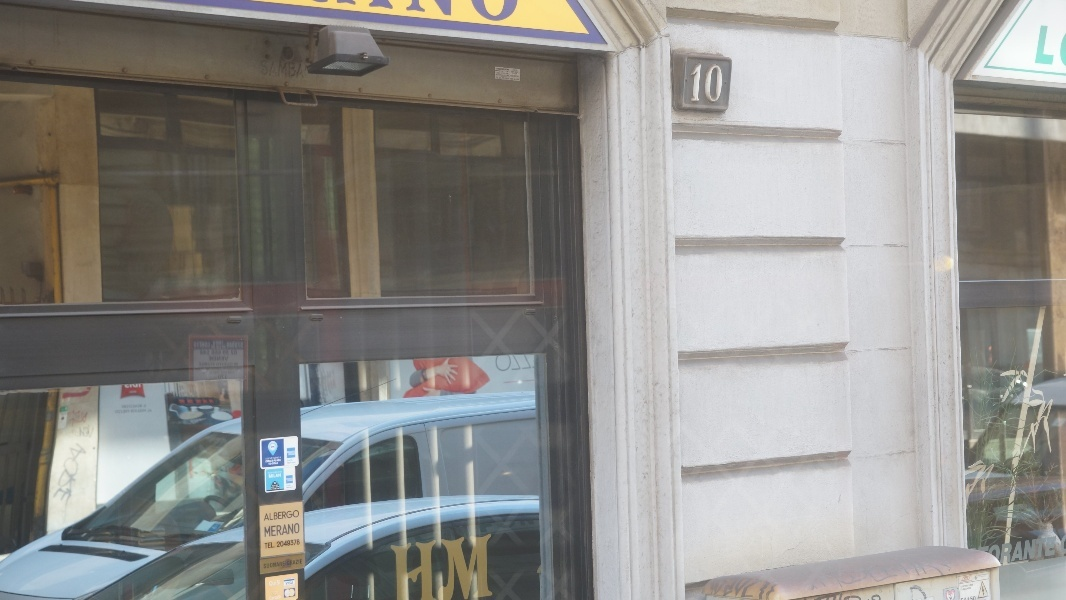text: (65, 438, 80, 507), (401, 533, 416, 600), (417, 533, 432, 600), (433, 533, 448, 600), (449, 533, 464, 600), (465, 533, 480, 600), (52, 438, 64, 507), (481, 533, 493, 600), (390, 533, 400, 600), (705, 62, 720, 104), (1041, 25, 1056, 67), (193, 339, 208, 380), (209, 339, 224, 380), (225, 339, 240, 380), (691, 62, 704, 104), (81, 438, 88, 507), (321, 1, 336, 24), (337, 1, 352, 24), (353, 1, 368, 24), (369, 1, 384, 24), (385, 1, 400, 24), (401, 1, 416, 24), (417, 1, 432, 24), (433, 1, 448, 24), (449, 1, 464, 24), (465, 1, 480, 24), (481, 1, 496, 24), (497, 1, 512, 24), (289, 60, 305, 79), (273, 60, 288, 79), (497, 354, 512, 373), (513, 354, 528, 373), (310, 1, 320, 24), (273, 523, 288, 538), (261, 60, 272, 79), (68, 410, 80, 427), (497, 68, 512, 81), (81, 426, 96, 438), (273, 510, 288, 521), (289, 523, 300, 538), (241, 339, 245, 380), (513, 1, 520, 24), (129, 404, 144, 414), (81, 410, 89, 427), (721, 62, 724, 104), (289, 510, 300, 521), (264, 523, 272, 538), (277, 539, 288, 548), (289, 539, 300, 548), (289, 559, 303, 566), (273, 561, 285, 569), (513, 68, 520, 81), (145, 404, 154, 414), (273, 456, 282, 466), (264, 456, 272, 466), (273, 471, 282, 479), (121, 404, 128, 414), (266, 510, 272, 521), (129, 384, 142, 389), (264, 561, 272, 569), (273, 580, 281, 588), (529, 354, 532, 373), (265, 542, 272, 549), (273, 596, 281, 600), (269, 471, 272, 479), (269, 580, 272, 588), (273, 542, 276, 549), (289, 581, 294, 585), (124, 384, 128, 389), (495, 354, 496, 373), (269, 596, 272, 600), (79, 426, 80, 438), (286, 581, 288, 585), (287, 559, 288, 566)
